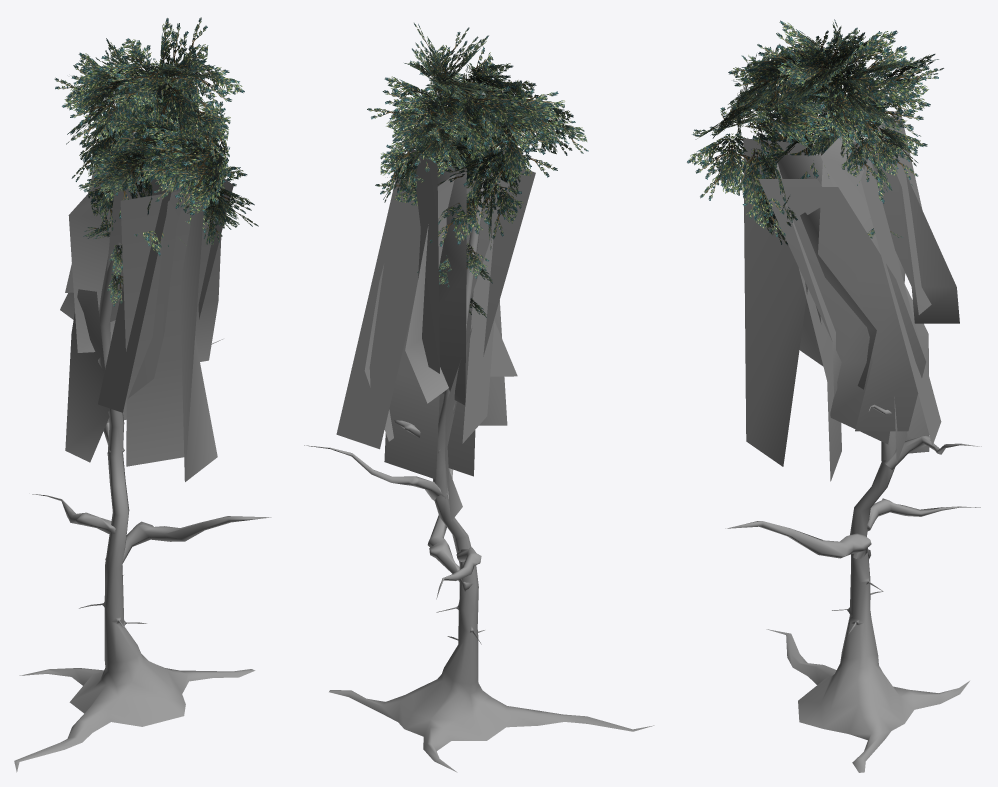
File: bjorktree_lod1.fbx
3 renders of one model, left to right at view 1: azimuth 30°, elevation 25°; view 2: azimuth 150°, elevation 25°; view 3: azimuth 270°, elevation 25°, orthographic. The views are drawn at different scales.
Parts seen in each view (by area): view 1: Default_Layer; view 2: Default_Layer; view 3: Default_Layer.
Part boxes in pixels (<box>): Default_Layer: <box>14,17,271,772</box>; Default_Layer: <box>304,23,654,772</box>; Default_Layer: <box>687,19,981,772</box>.
Bounding box in the file's own units: 744 × 1720 × 654.
